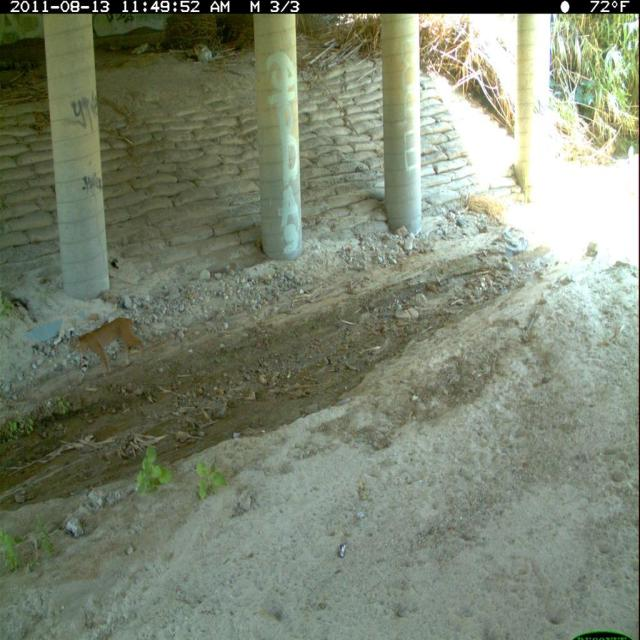bobcat: (65, 311, 151, 391)
